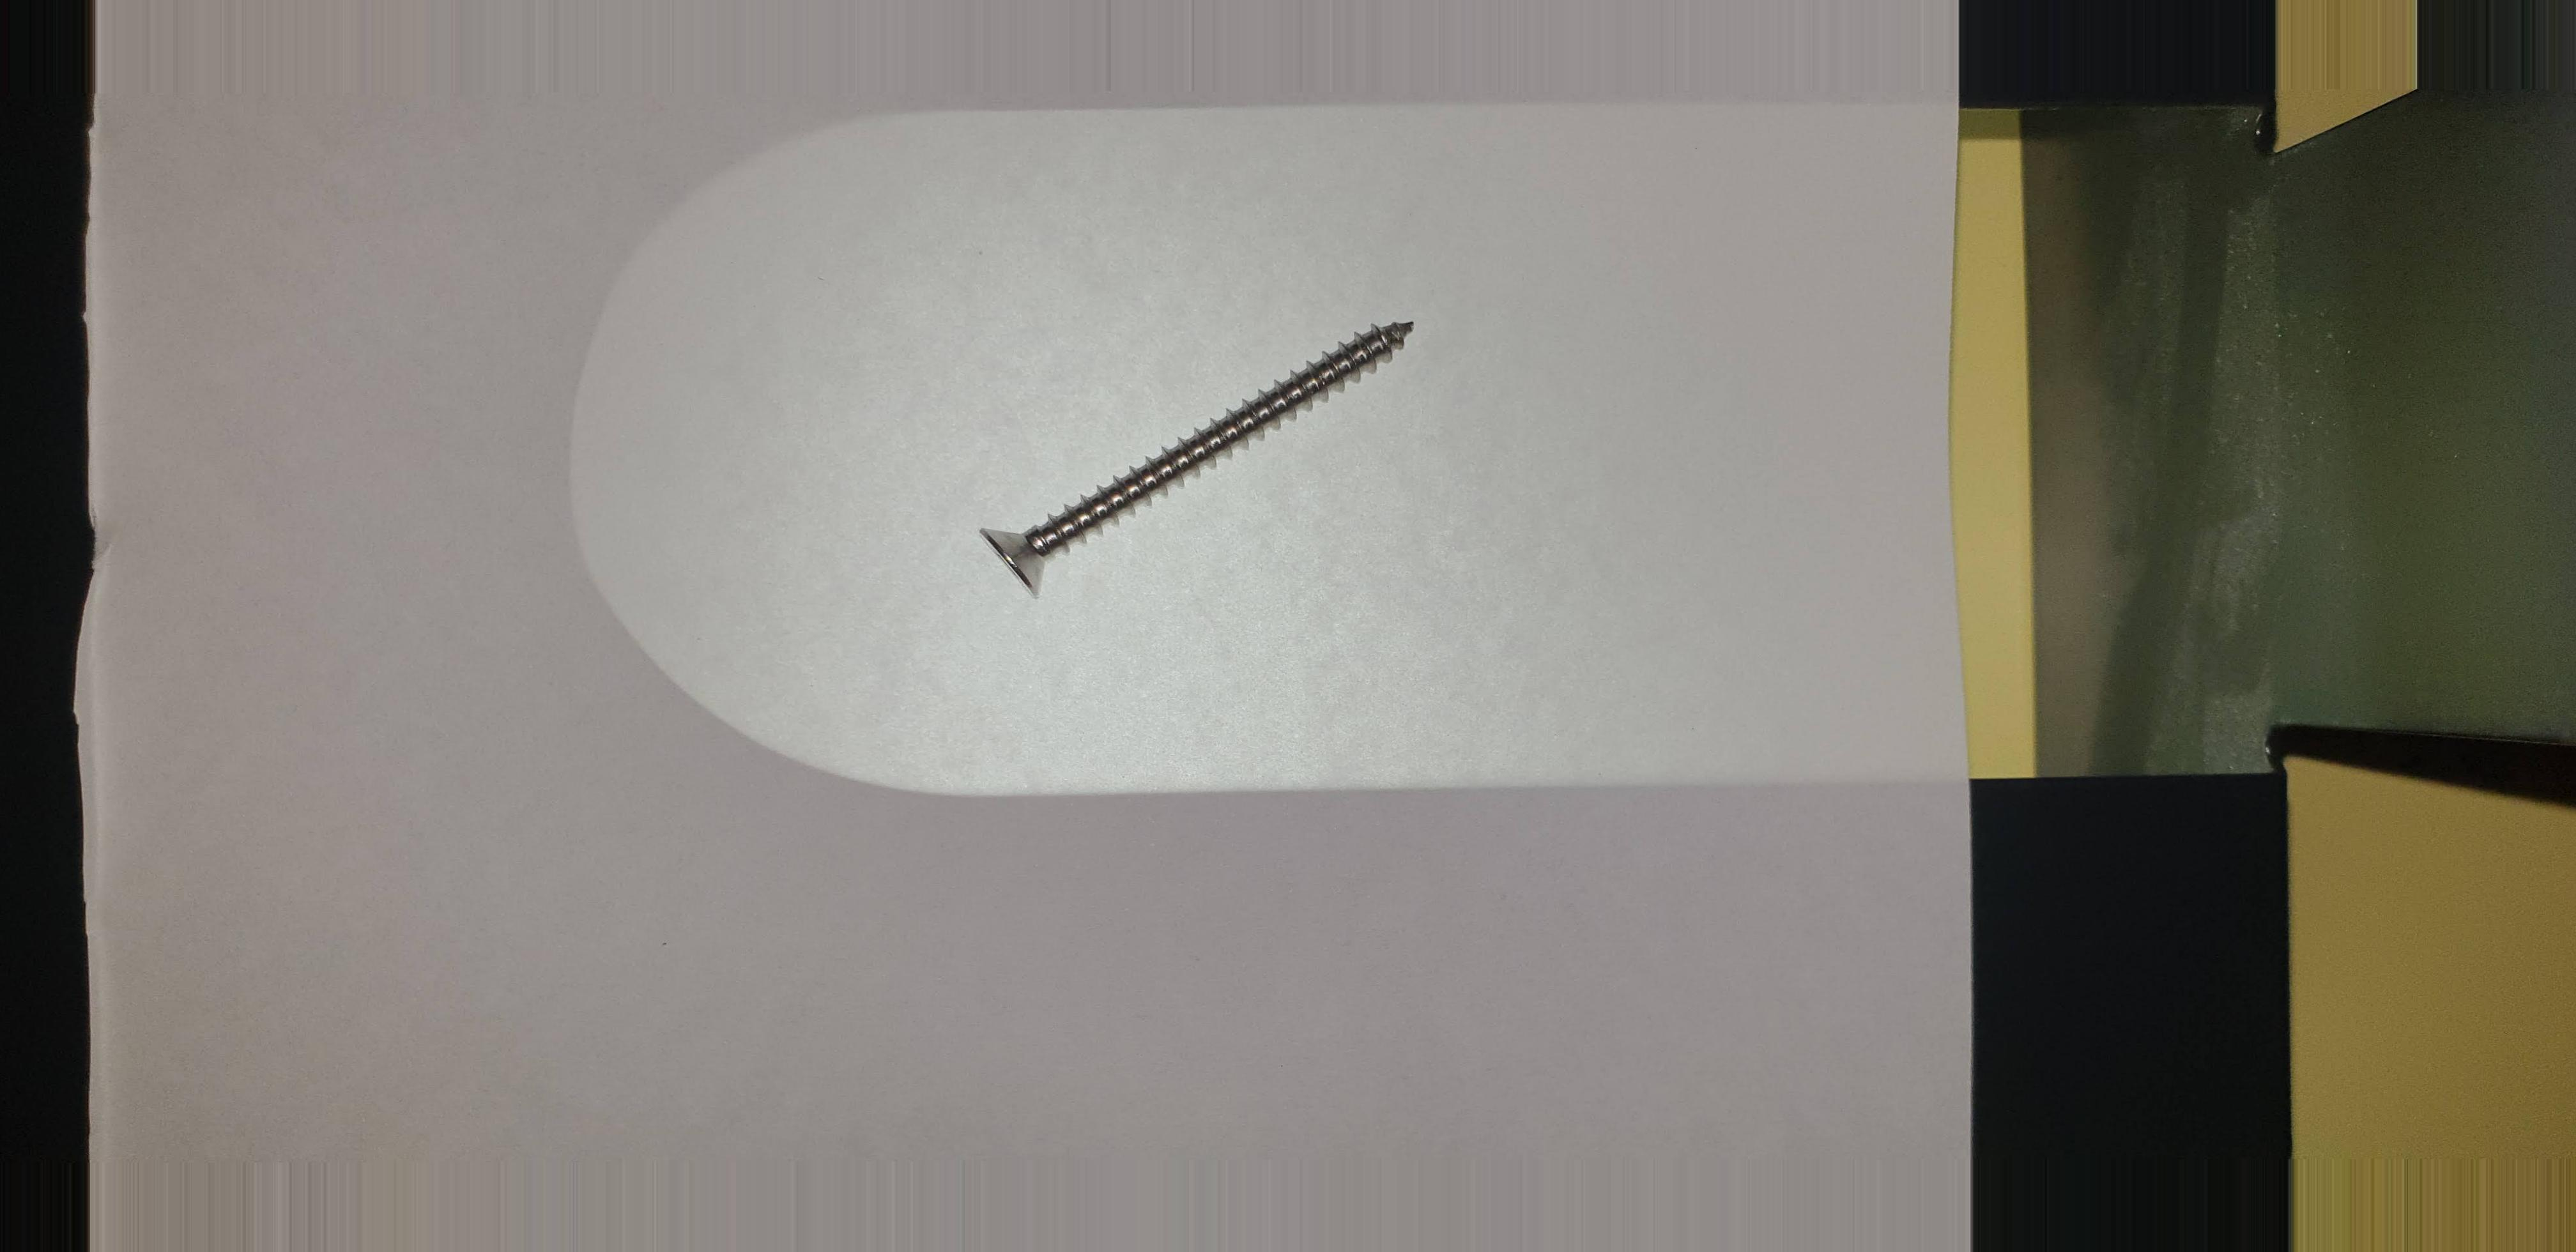fastener: (890, 302, 1480, 629)
